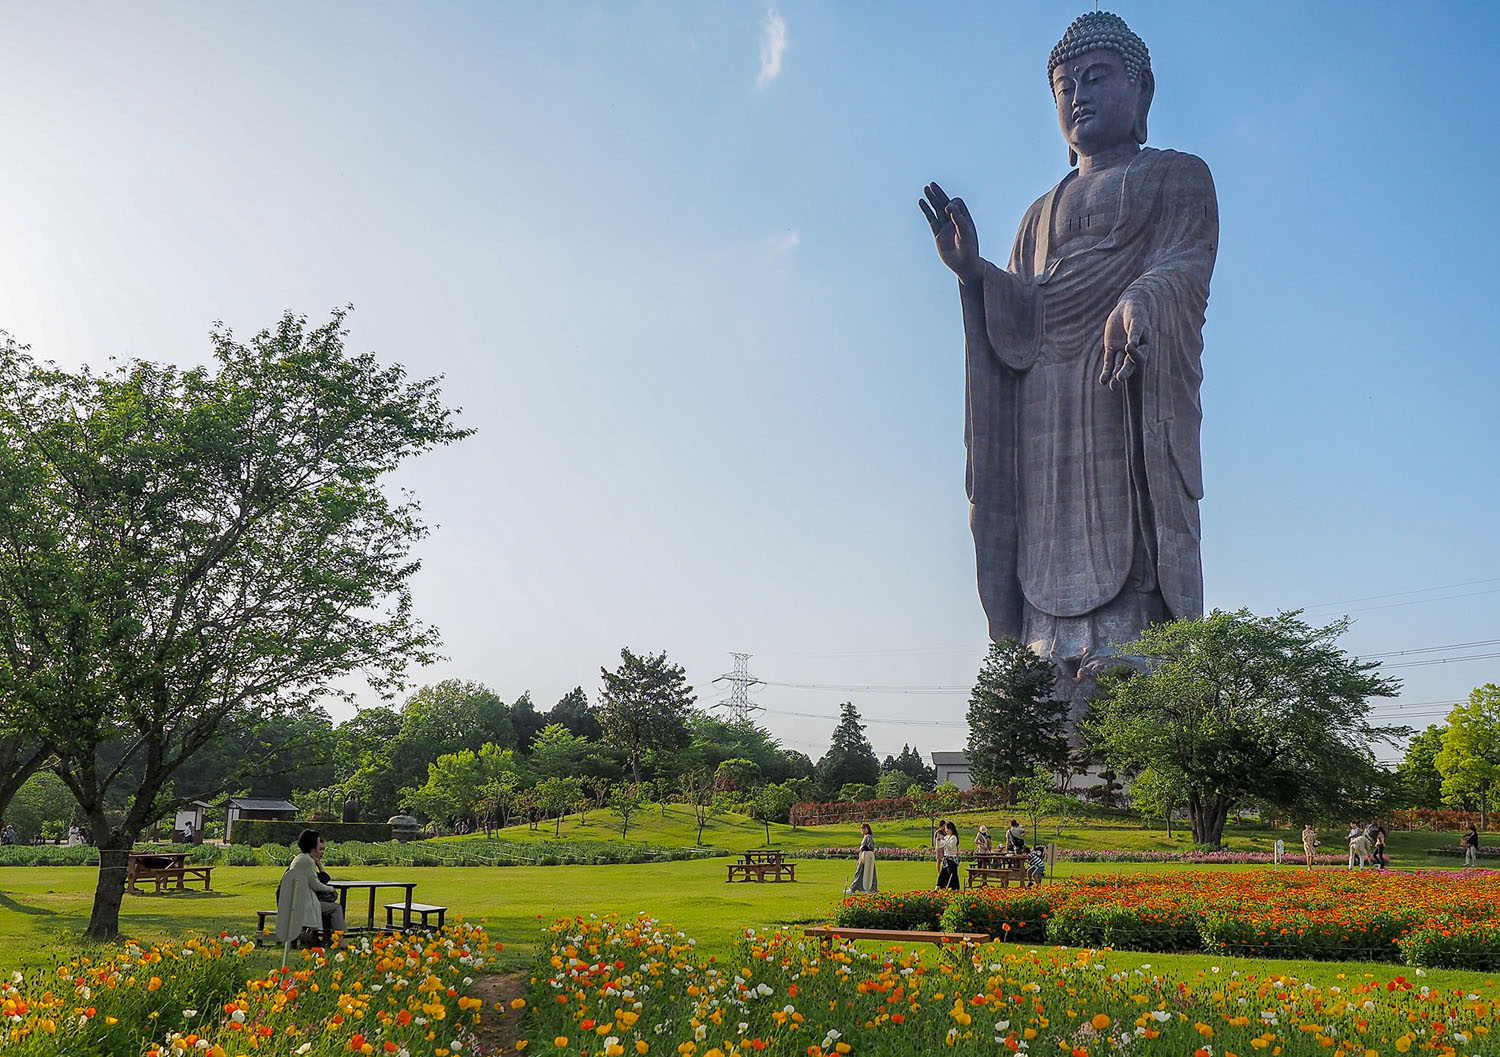person: (292, 827, 339, 939), (845, 821, 887, 893), (936, 818, 961, 889), (1460, 815, 1482, 861), (1007, 816, 1030, 851), (972, 821, 994, 857), (1301, 820, 1320, 859)
person-like: (916, 7, 1235, 811)
